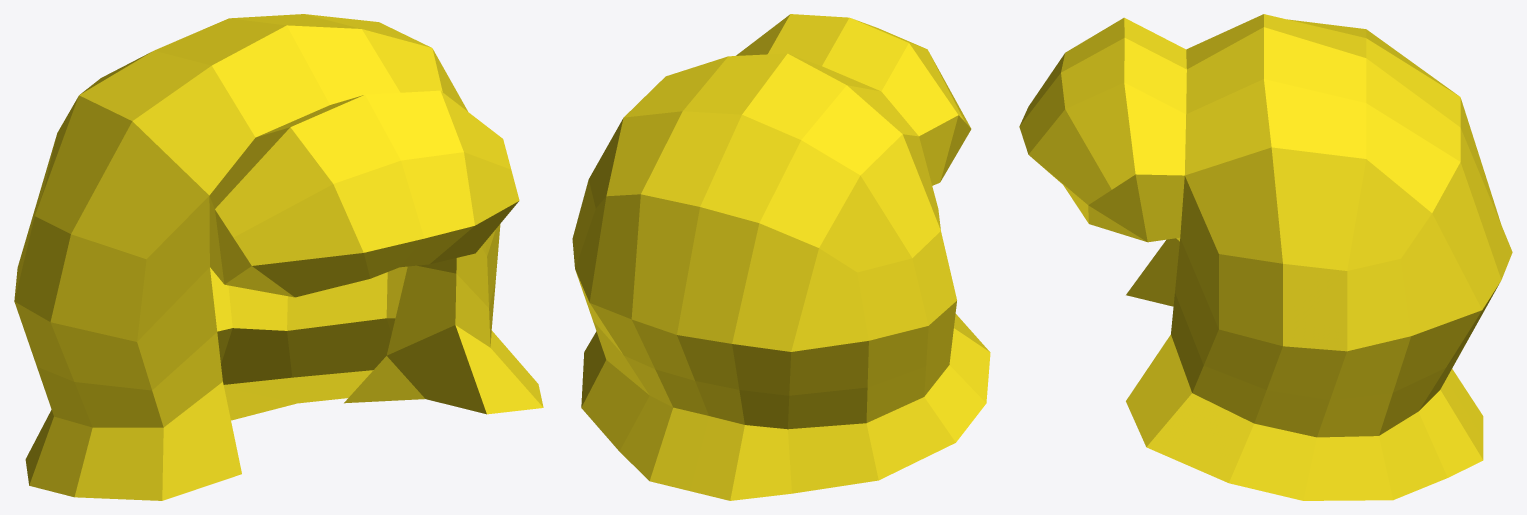
File: reporter_hair.fbx
3 views of the same model, side by side, from view 1: azimuth 30°, elevation 25°; view 2: azimuth 150°, elevation 25°; view 3: azimuth 270°, elevation 25° (orthographic). The views are drawn at different scales.
Parts seen in each view (by area): view 1: Cube.001; view 2: Cube.001; view 3: Cube.001.
Part boxes in pixels (<box>): Cube.001: <box>14,14,543,500</box>; Cube.001: <box>572,14,990,500</box>; Cube.001: <box>1019,14,1512,500</box>.
Size of the model in its own units: 440 by 414 by 450.
